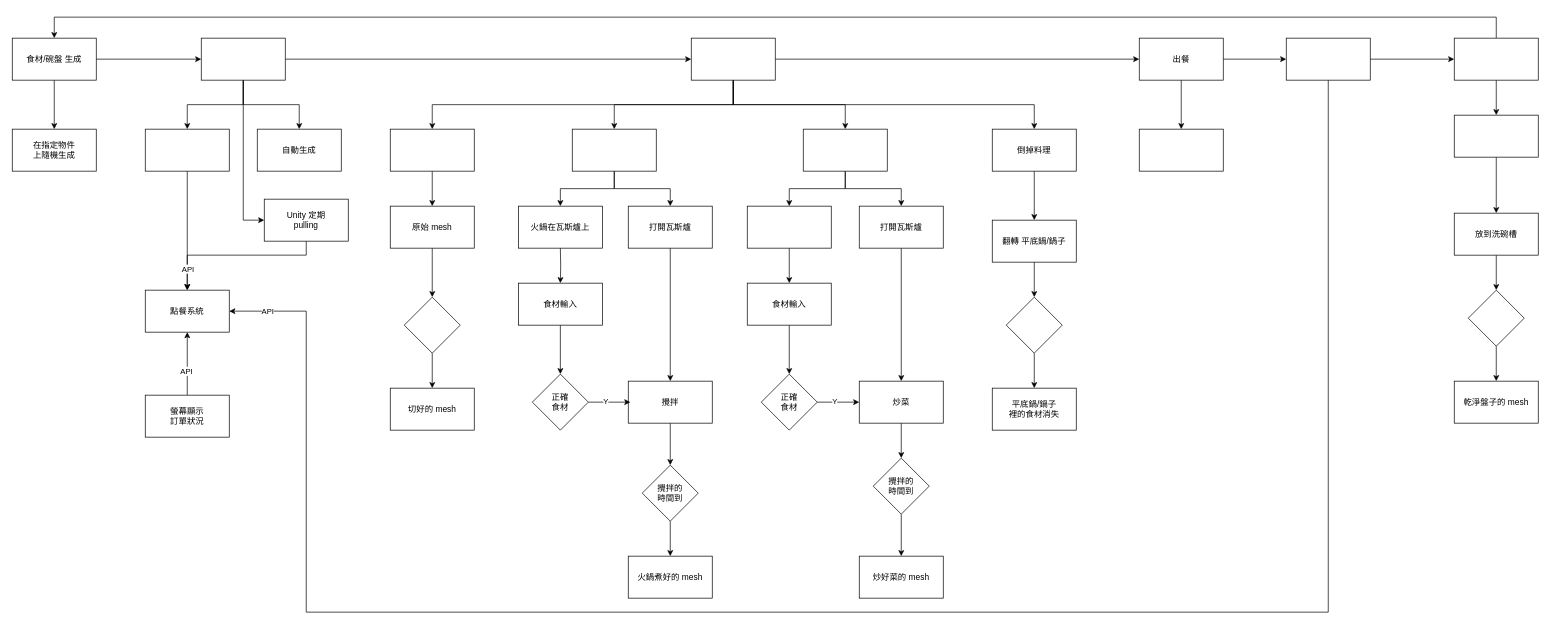
Image size: 1551x630. Some labels were removed from this diagram. Here are the shapes that lost their labels. From the top down, the centre of each, then its label:
At [243,58]: "訂單生成".
At [733,58]: "料理動作".
At [1328,58]: "消訂單".
At [1496,58]: "洗碗".
At [187,149]: "顧客掃碼點餐".
At [432,149]: "切菜".
At [614,149]: "煮火鍋".
At [845,149]: "炒平底鍋".
At [1181,149]: "將餐點放到 訂單的位置".
At [1496,135]: "從指定訂單桌上 拿髒碗盤".
At [789,226]: "平底鍋在瓦斯爐上".
At [432,324]: "切的 次數 符合".
At [1034,324]: "食材碰到 垃圾桶".
At [1496,317]: "洗的 次數 符合".
